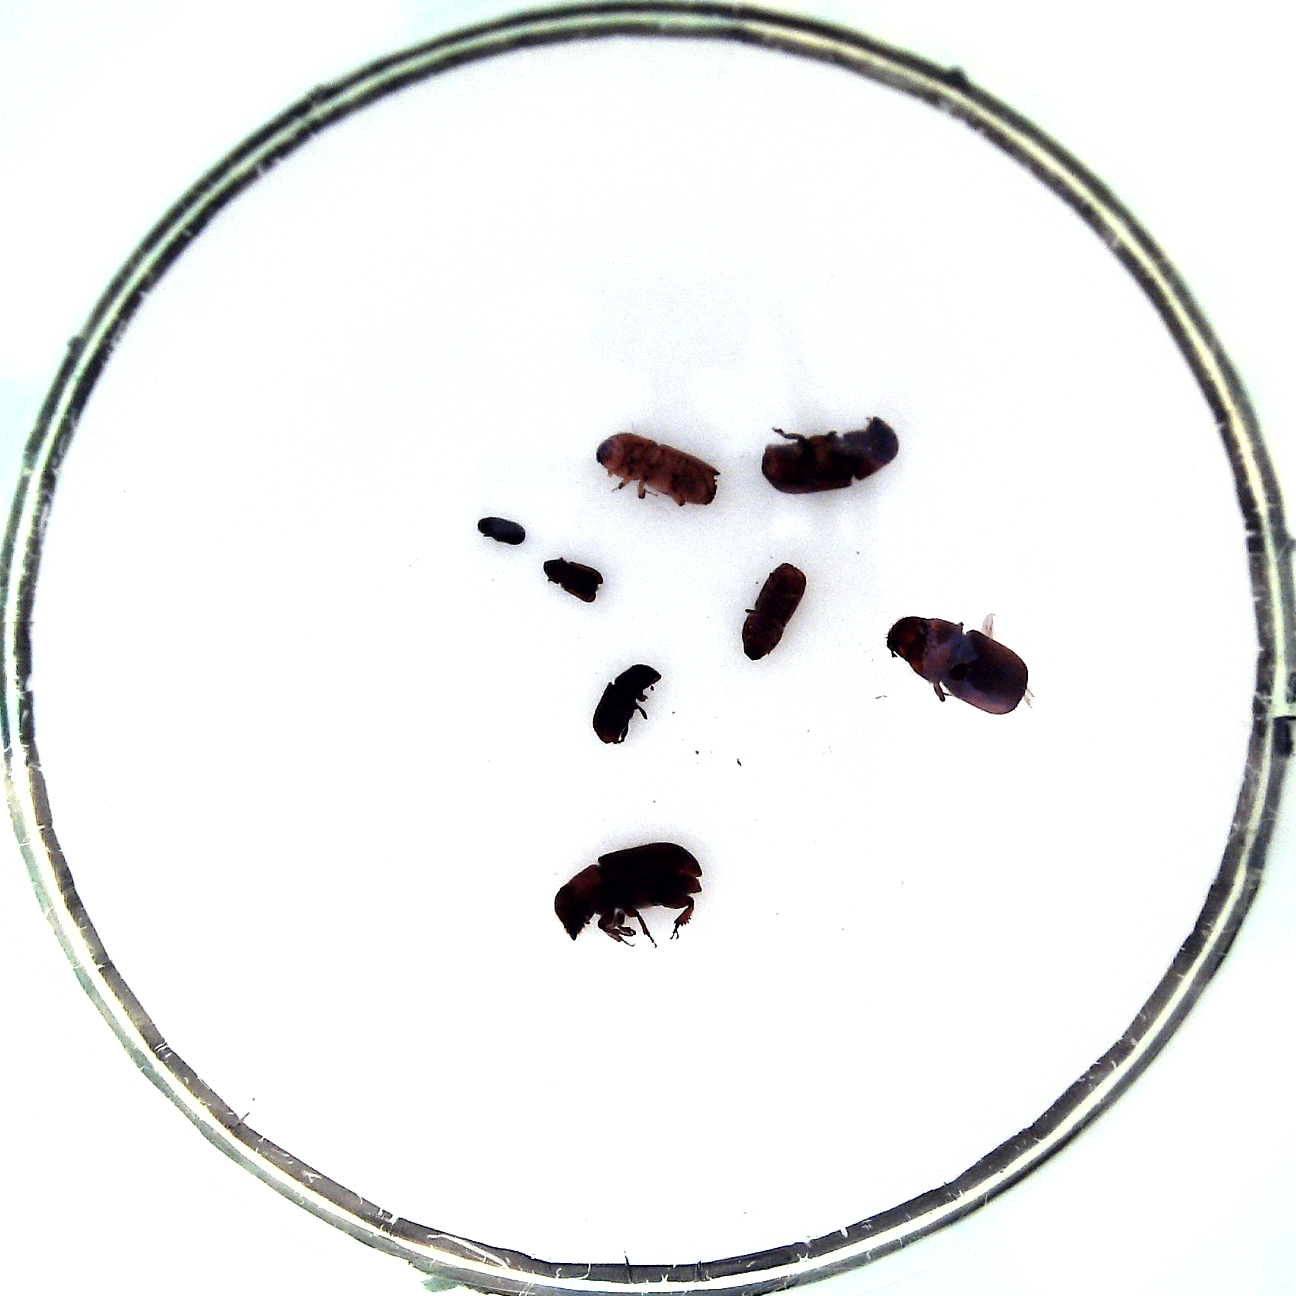Boerner: (596, 432, 720, 506)
Leconte: (555, 841, 703, 941), (887, 617, 1029, 714), (761, 417, 898, 495)
acuminatus: (477, 516, 525, 546)
armandi: (593, 663, 662, 744)
coleoptera: (544, 558, 604, 603)
linnaeus: (742, 563, 806, 661)
